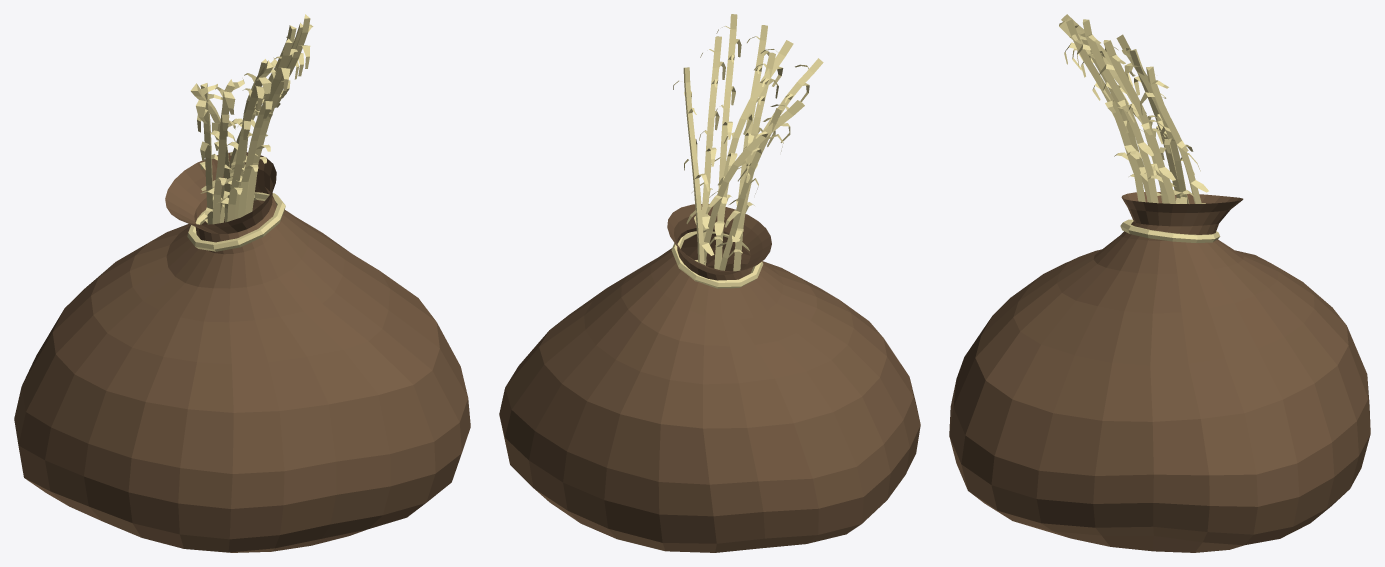
File: wheat_pouch.fbx
3 views of the same model, side by side, from view 1: azimuth 30°, elevation 25°; view 2: azimuth 150°, elevation 25°; view 3: azimuth 270°, elevation 25° (orthographic). The views are drawn at different scales.
Parts seen in each view (by area): view 1: Sphere, Cylinder.001, Cylinder, Cylinder.005, Cylinder.002, Torus.001, Cylinder.007, Cylinder.008, Cylinder.004, Cylinder.006; view 2: Sphere, Cylinder.004, Cylinder.006, Cylinder.008, Cylinder.003, Cylinder, Cylinder.005, Cylinder.007, Torus.001, Cylinder.001, Cylinder.002; view 3: Sphere, Cylinder, Cylinder.003, Cylinder.001, Cylinder.006, Cylinder.008, Cylinder.007, Torus.001, Cylinder.002, Cylinder.004.
Part boxes in pixels (x1,y1,x2,y2): Sphere: (14,152,470,552); Cylinder.001: (226,38,297,218); Cylinder: (231,14,313,214); Cylinder.005: (200,78,244,224); Cylinder.002: (217,59,275,221); Torus.001: (187,192,285,251); Cylinder.007: (197,83,226,224); Cylinder.008: (190,83,235,222); Cylinder.004: (225,57,277,219); Cylinder.006: (201,25,298,223); Sphere: (499,204,920,552); Cylinder.004: (709,40,793,269); Cylinder.006: (673,67,714,264); Cylinder.008: (695,100,804,264); Cylinder.003: (692,36,725,265); Cylinder: (711,14,741,260); Cylinder.005: (729,58,823,271); Cylinder.007: (717,108,783,270); Torus.001: (671,231,763,288); Cylinder.001: (735,25,769,247); Cylinder.002: (730,52,778,270); Sphere: (949,192,1370,552); Cylinder: (1077,19,1158,203); Cylinder.003: (1099,40,1186,203); Cylinder.001: (1064,18,1145,202); Cylinder.006: (1140,66,1208,203); Cylinder.008: (1116,34,1200,203); Cylinder.007: (1129,49,1194,203); Torus.001: (1120,219,1220,242); Cylinder.002: (1079,31,1161,202); Cylinder.004: (1059,21,1175,203).
Size of the model in its own units: 229 by 270 by 218.
